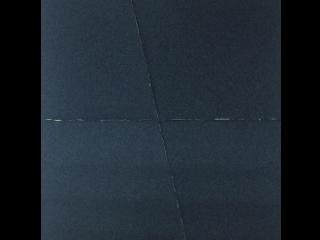crack: (124, 0, 194, 240), (41, 110, 283, 130)
